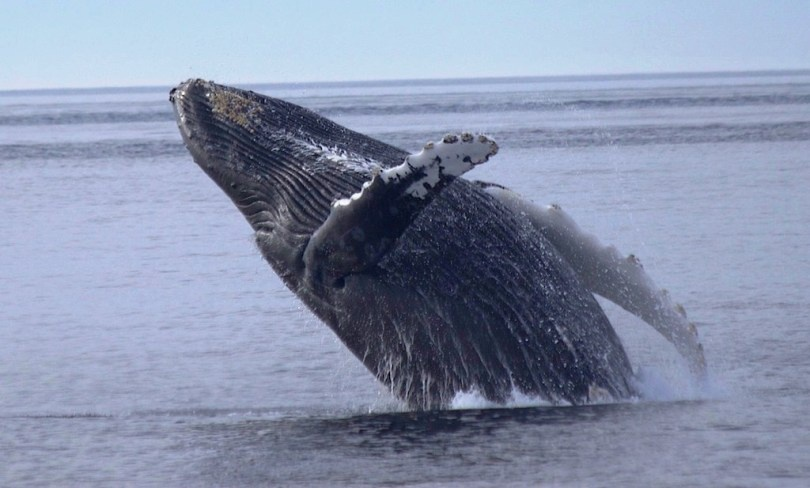humpback: (168, 78, 642, 404)
